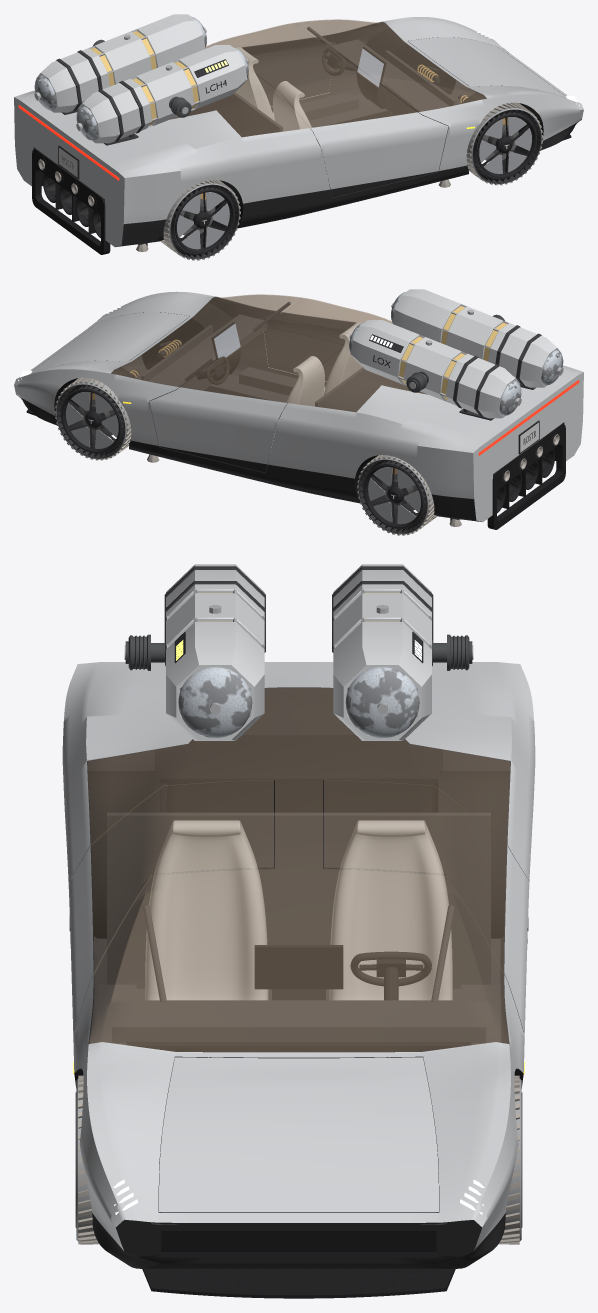
The model's file is roadster-catch.glb.
The picture shows the model from 3 angles, top to bottom: view 1: azimuth 30°, elevation 25°; view 2: azimuth 150°, elevation 25°; view 3: azimuth 270°, elevation 25°; orthographic projection. The views are drawn at different scales.
Visible parts, largest first — view 1: Body, Door_R, Bottle_LCH4_jacket, Bottle_LOX_jacket, Door_L, Interior_tub, Frunk, FanBay_bezel, Rim_RR, Rim_FR, Dashboard, LunarTyre_FR (+15 smaller); view 2: Body, Door_L, Bottle_LOX_jacket, Bottle_LCH4_jacket, Door_R, Interior_tub, Frunk, FanBay_bezel, Rim_RL, Rim_FL, Dashboard, LunarTyre_FL (+15 smaller); view 3: Body, Frunk, Interior_tub, Dashboard, Door_L, Door_R, Seat_R, Seat_L, Bottle_LOX_jacket, Bottle_LCH4_jacket, Splitter, Bottle_LOX_vessel (+9 smaller).
Part boxes in pixels (left/top/right/bottom): Body: left=14, top=17, right=583, bottom=247; Door_R: left=253, top=52, right=448, bottom=197; Bottle_LCH4_jacket: left=78, top=45, right=247, bottom=143; Bottle_LOX_jacket: left=36, top=14, right=205, bottom=112; Door_L: left=210, top=22, right=335, bottom=106; Interior_tub: left=187, top=50, right=470, bottom=197; Frunk: left=408, top=37, right=565, bottom=97; FanBay_bezel: left=32, top=149, right=147, bottom=254; Rim_RR: left=175, top=190, right=234, bottom=253; Rim_FR: left=477, top=114, right=536, bottom=178; Dashboard: left=307, top=27, right=449, bottom=124; LunarTyre_FR: left=466, top=102, right=542, bottom=185; Body: left=14, top=291, right=583, bottom=521; Door_L: left=149, top=327, right=344, bottom=472; Bottle_LOX_jacket: left=350, top=320, right=519, bottom=418; Bottle_LCH4_jacket: left=392, top=289, right=561, bottom=387; Door_R: left=262, top=297, right=387, bottom=381; Interior_tub: left=129, top=325, right=410, bottom=472; Frunk: left=32, top=312, right=189, bottom=372; FanBay_bezel: left=450, top=424, right=565, bottom=529; Rim_RL: left=363, top=465, right=422, bottom=528; Rim_FL: left=61, top=389, right=120, bottom=453; Dashboard: left=148, top=302, right=290, bottom=399; LunarTyre_FL: left=55, top=377, right=131, bottom=460; Body: left=62, top=662, right=535, bottom=1268; Frunk: left=159, top=1057, right=438, bottom=1212; Interior_tub: left=97, top=812, right=500, bottom=1131; Dashboard: left=112, top=905, right=485, bottom=1052; Door_L: left=324, top=780, right=529, bottom=1032; Door_R: left=68, top=780, right=273, bottom=1032; Seat_R: left=145, top=820, right=268, bottom=1000; Seat_L: left=329, top=820, right=452, bottom=1000; Bottle_LOX_jacket: left=333, top=564, right=431, bottom=740; Bottle_LCH4_jacket: left=166, top=564, right=264, bottom=740; Splitter: left=142, top=1269, right=455, bottom=1298; Bottle_LOX_vessel: left=345, top=667, right=419, bottom=738.
Size of the model in its own units: 4.55 by 1.54 by 1.92.
49 materials, 2 textured.
